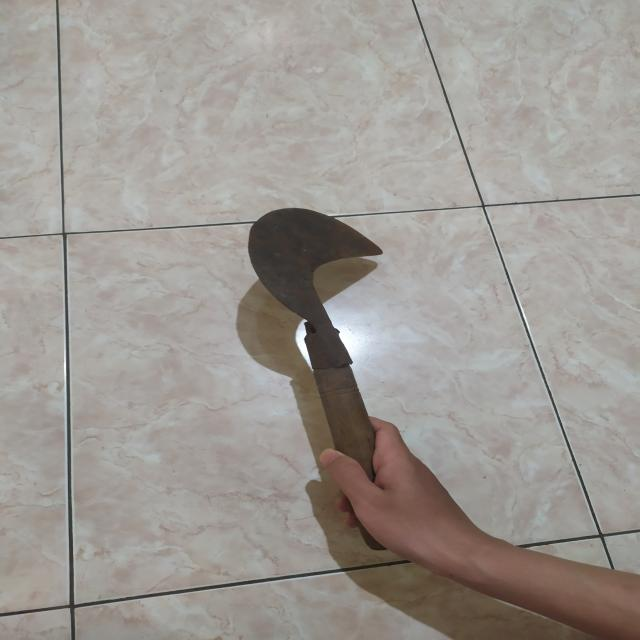Celurit: (249, 209, 390, 550)
